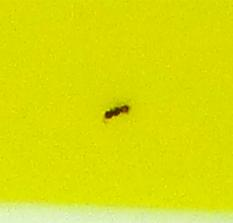Hymenoptera: (100, 100, 133, 123)
